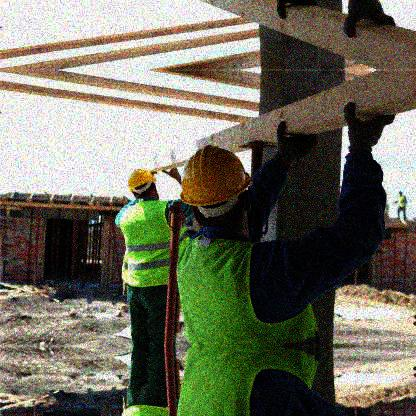helmet: (180, 145, 253, 240), (127, 167, 162, 203)
